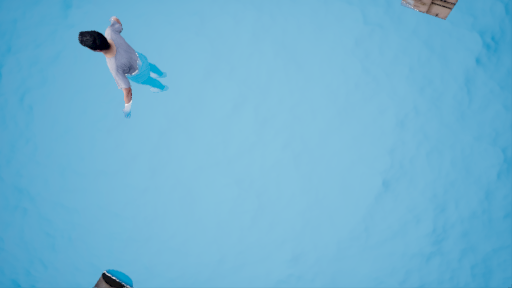person: (76, 12, 167, 121)
